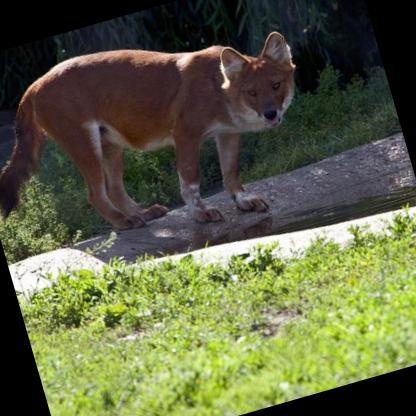dhole: (0, 0, 330, 283)
